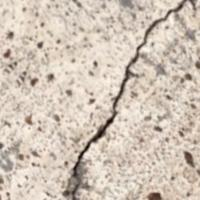crack: (69, 0, 199, 199)
